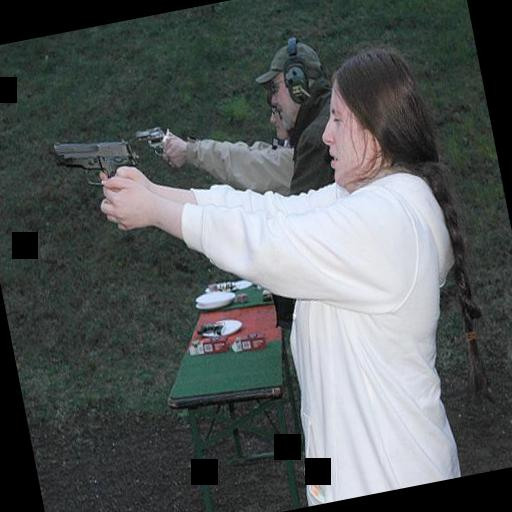Handgun: (50, 123, 145, 205), (130, 119, 172, 162)
